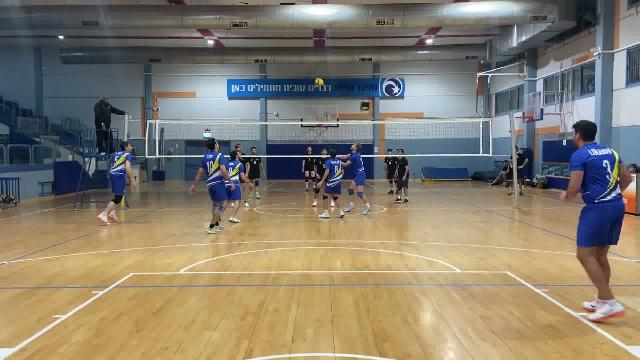ball: (316, 78, 325, 90)
